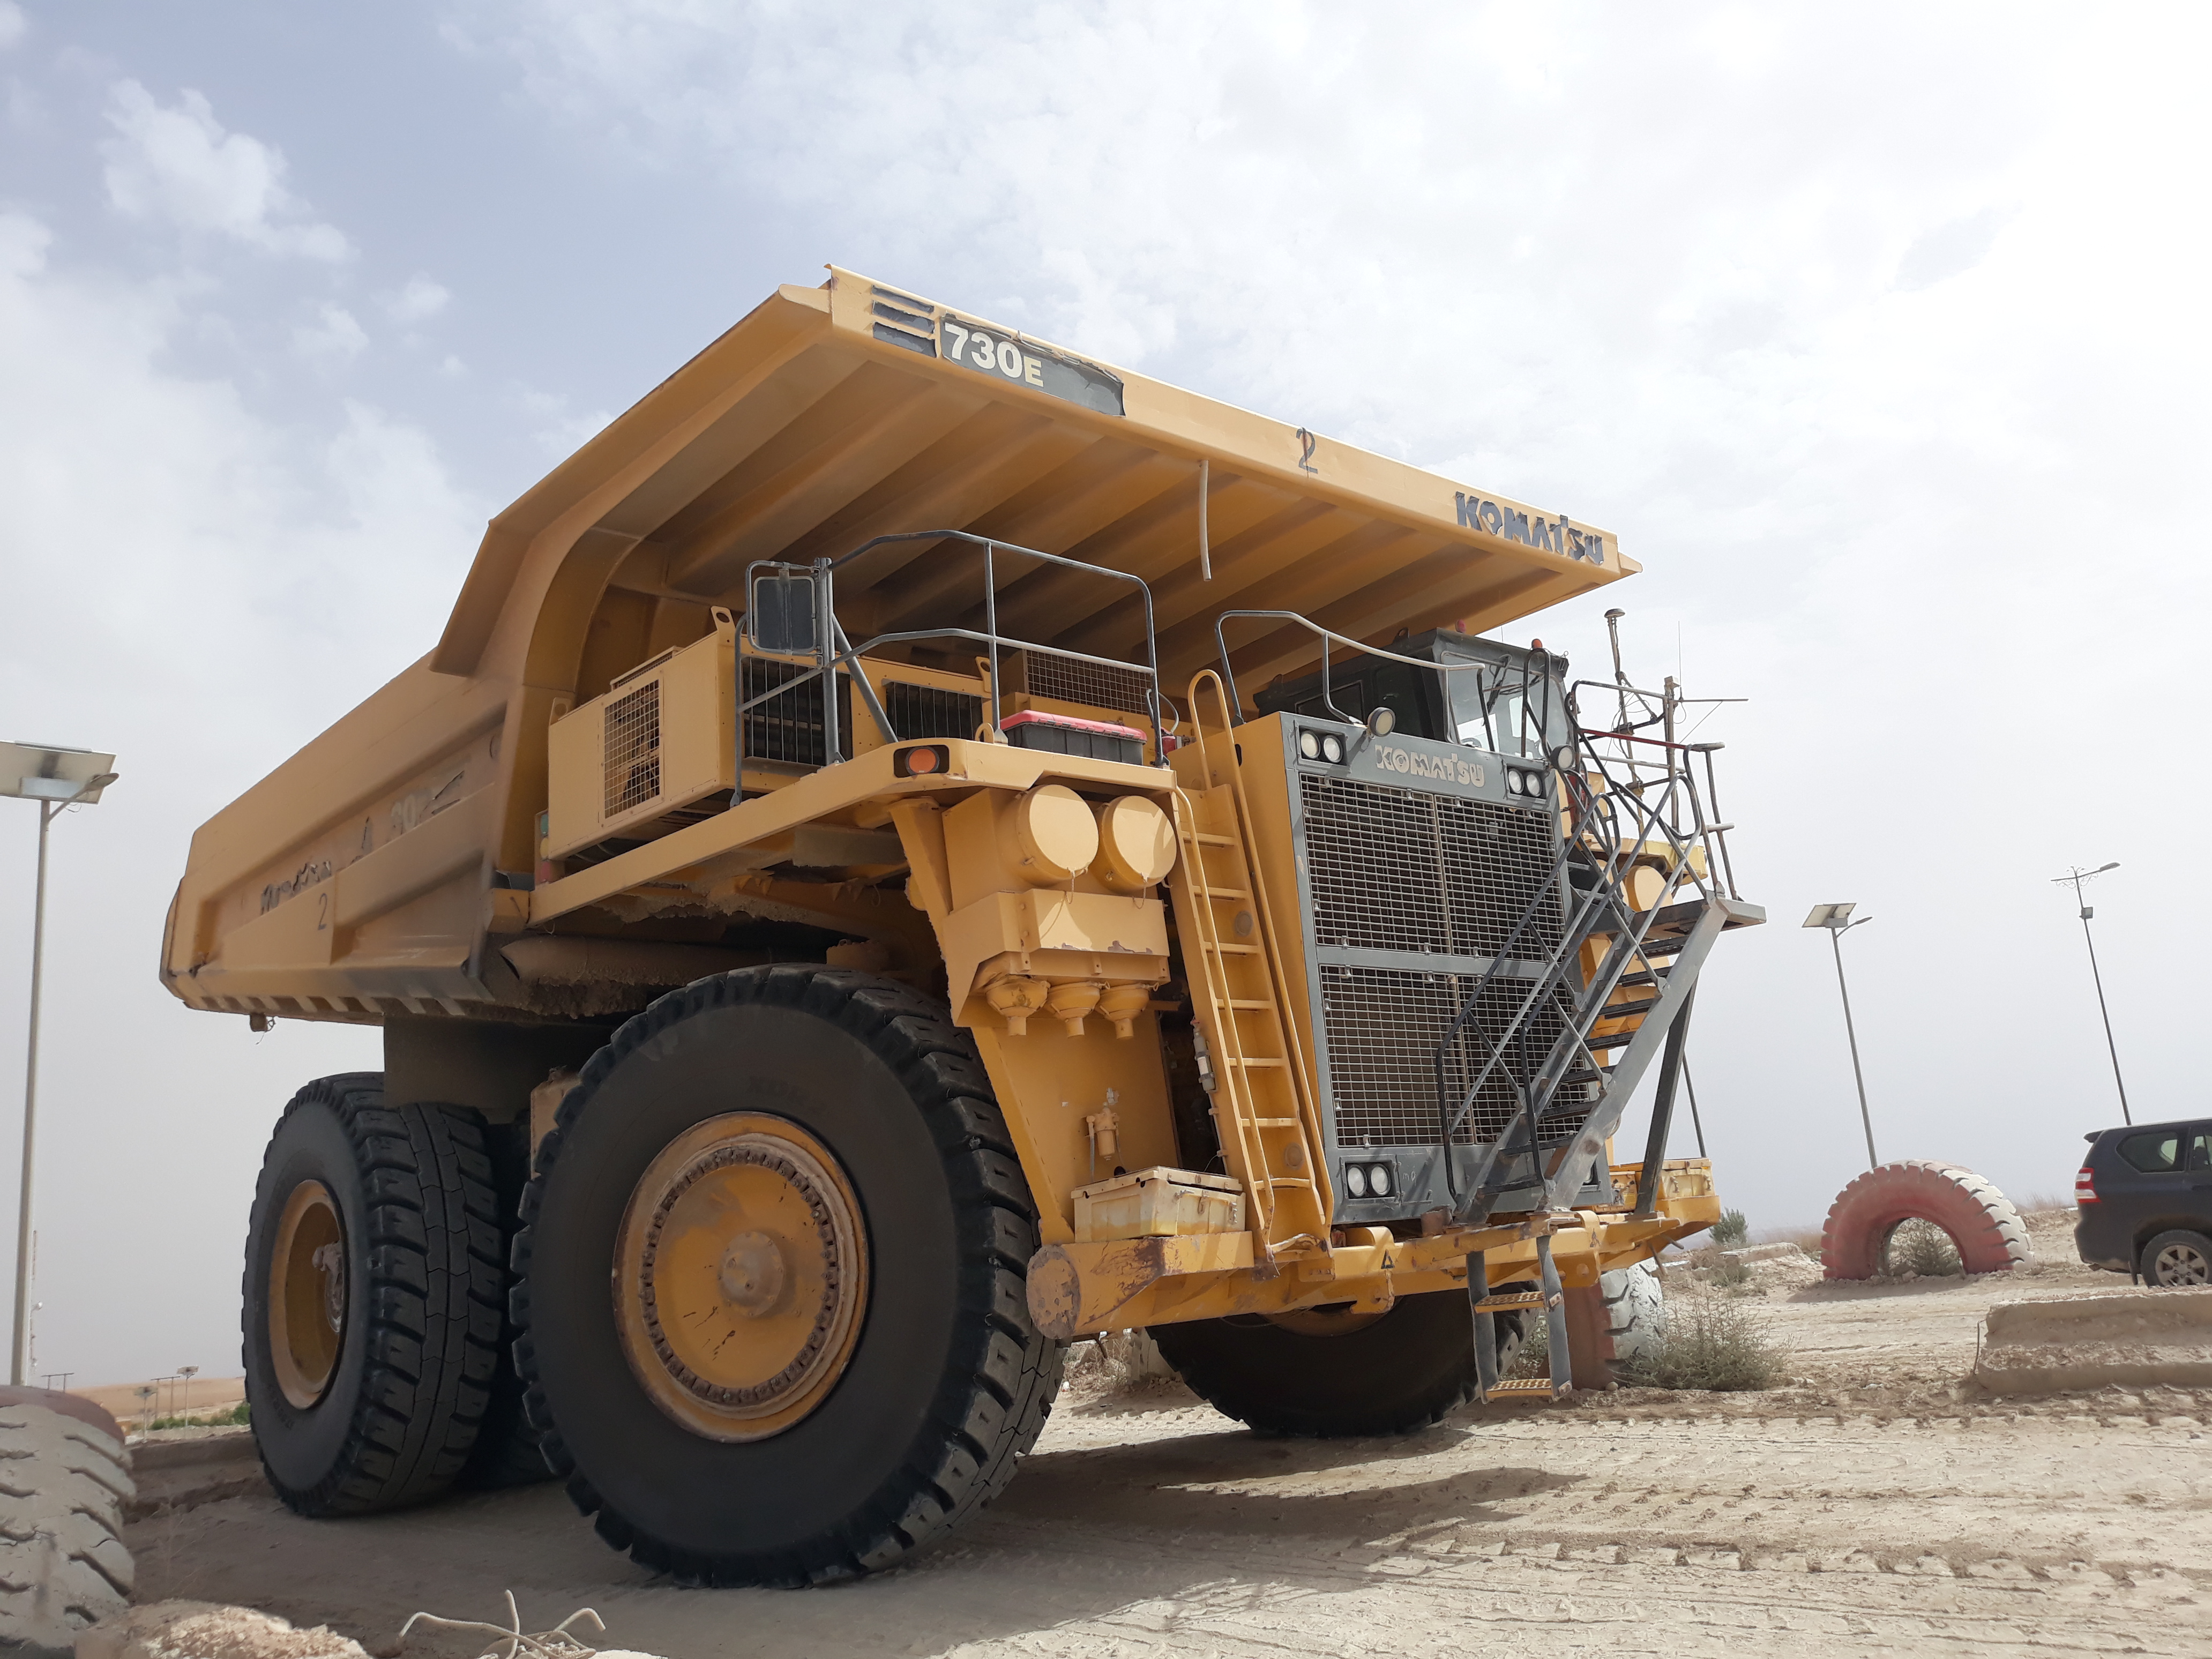camion: (152, 221, 1784, 1595)
car: (2064, 1110, 2212, 1288)
